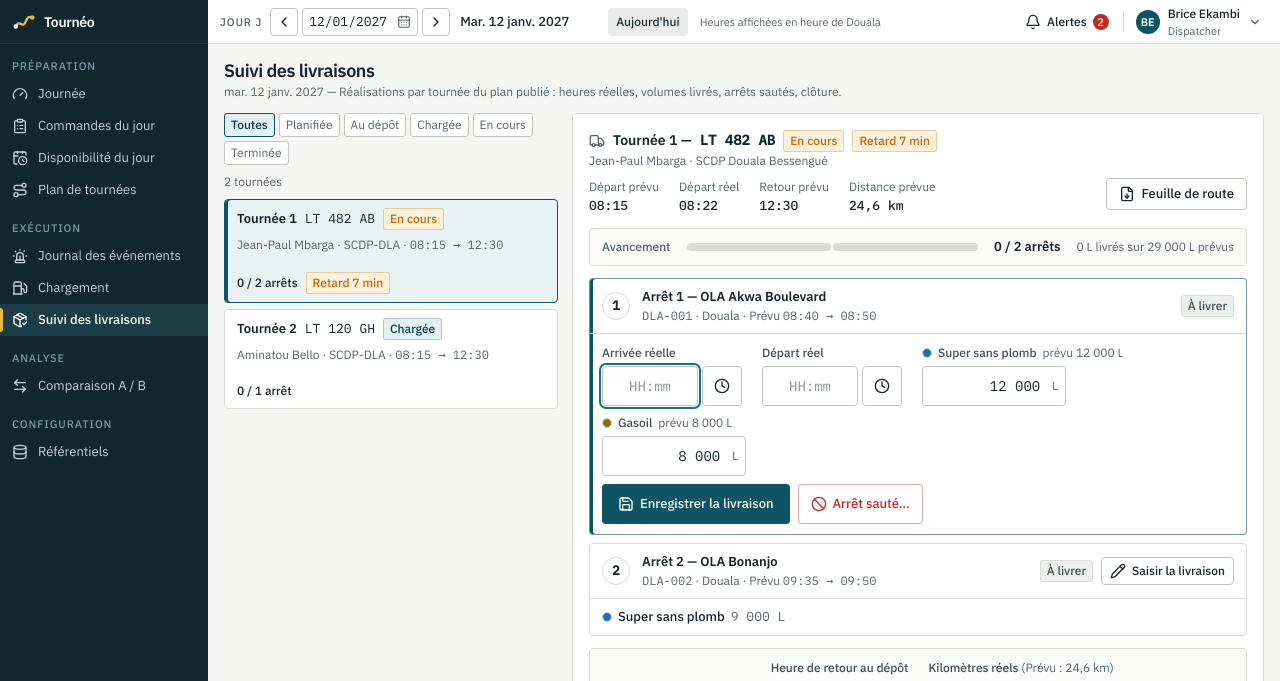
Test: Suivi des livraisons — écran › enregistre une livraison : heures réelles, volumes par commande, retard affiché
Click the button "Enregistrer la livraison" at (696, 504), box top-left (602, 484), bottom-right (790, 524)
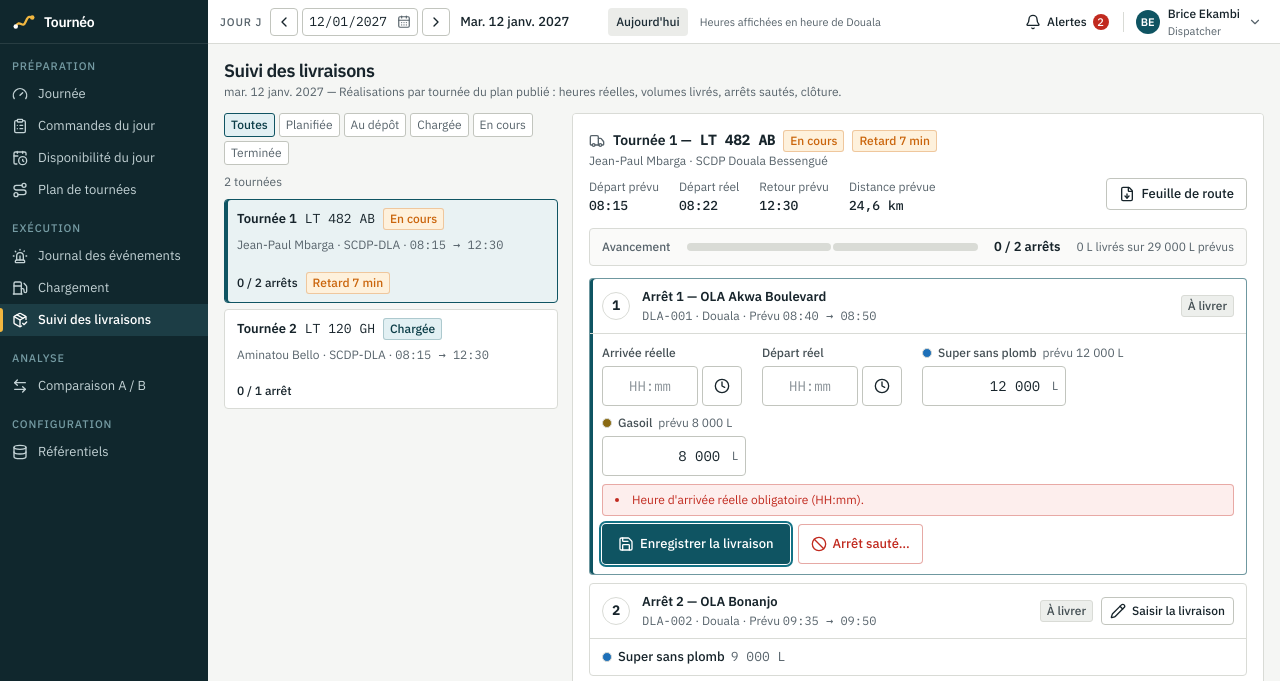
Type "852" into the 1st field with placeholder "HH:mm" at (650, 386), box top-left (602, 366), bottom-right (698, 406)
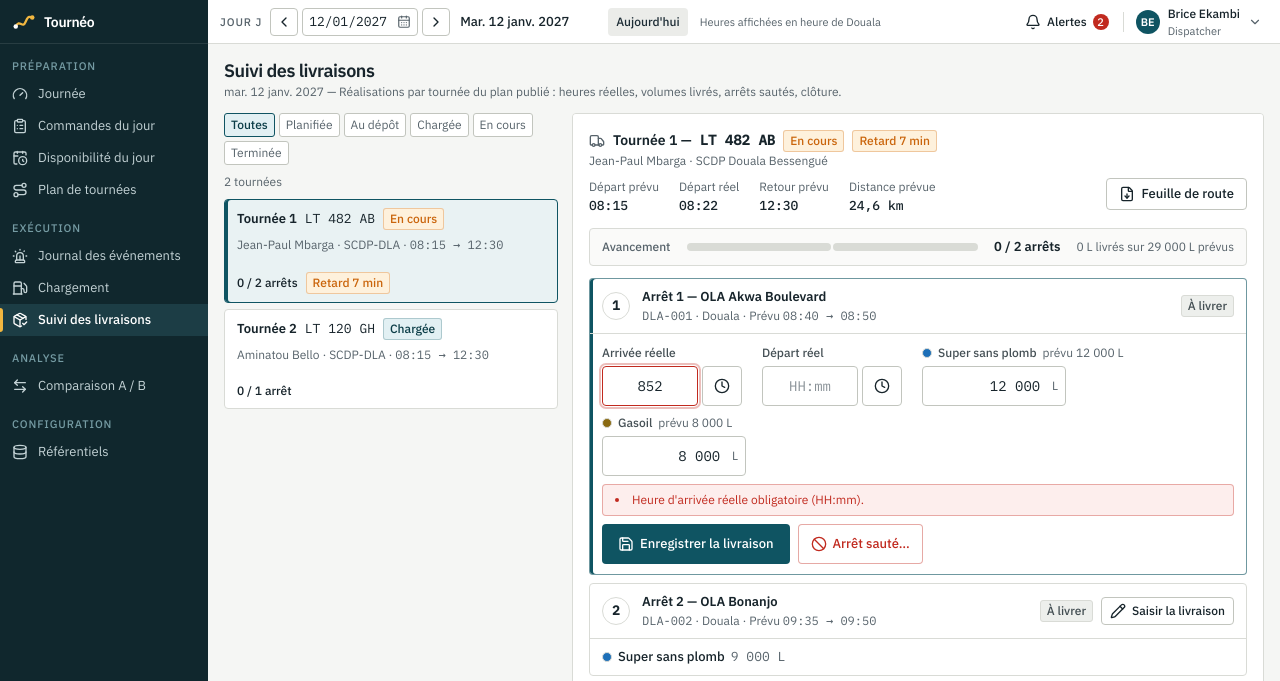
Type "930" into the field with placeholder "HH:mm" at (810, 386), box top-left (762, 366), bottom-right (858, 406)
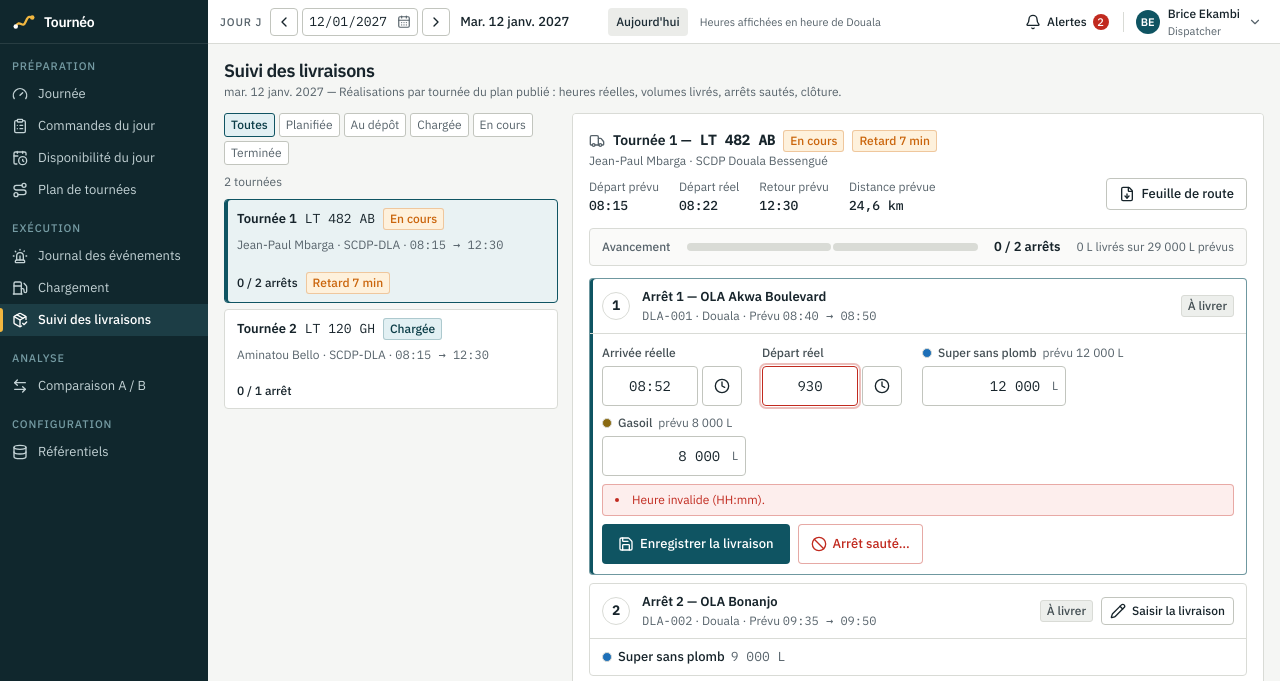
Replace the text in the field named "Volume livré Gasoil, arrêt 1" with "7500" at (674, 456), box top-left (602, 436), bottom-right (746, 476)
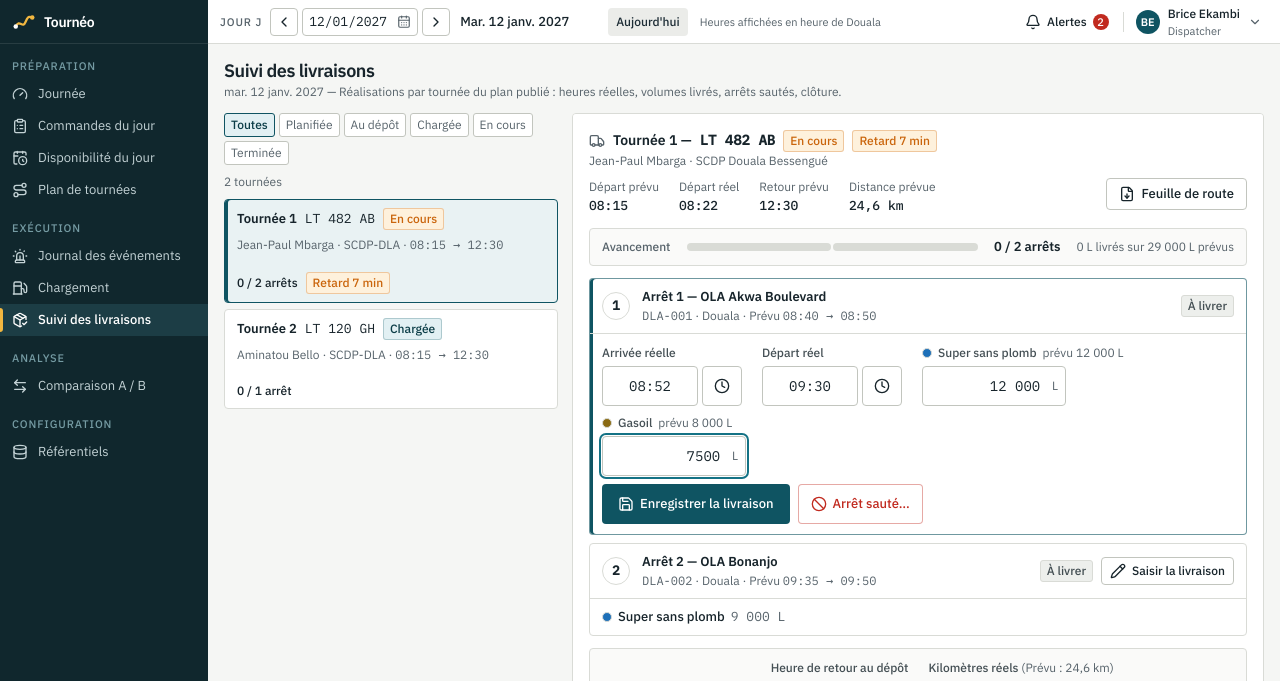
Click the button "Enregistrer la livraison" at (696, 504), box top-left (602, 484), bottom-right (790, 524)
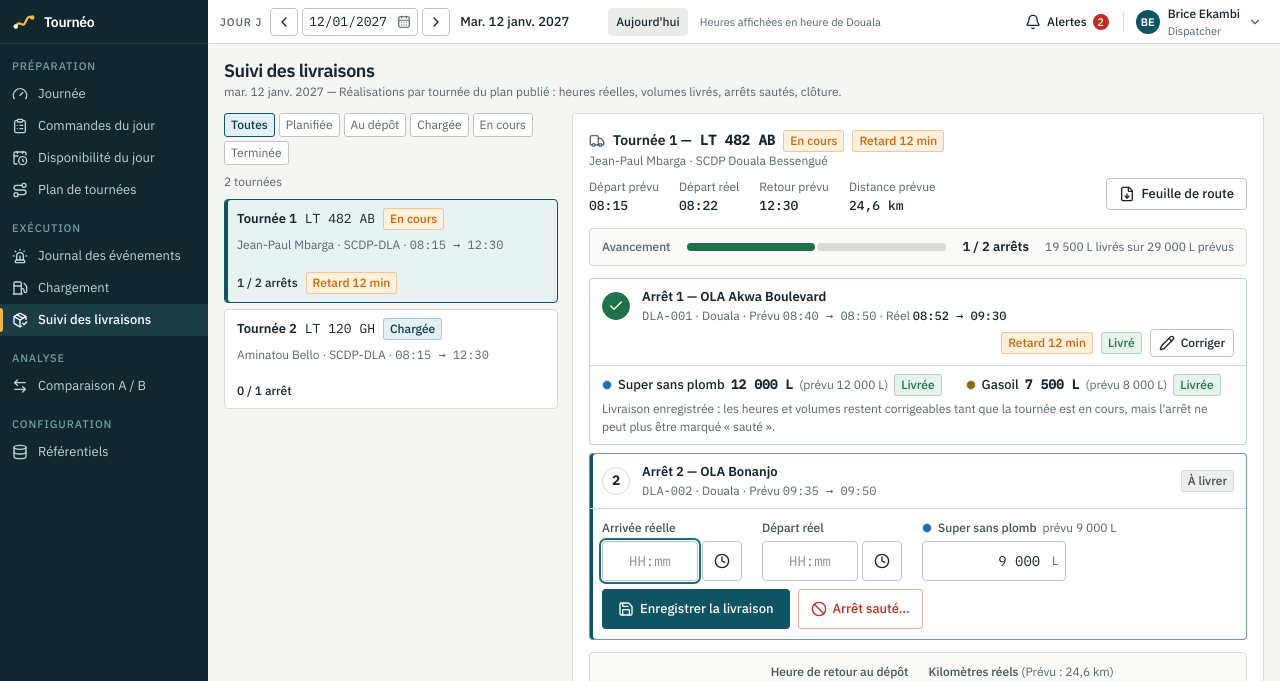
Now the text with test id "trip-progress" reads "1 / 2 arrêts", box top-left (962, 238), bottom-right (1029, 254)
